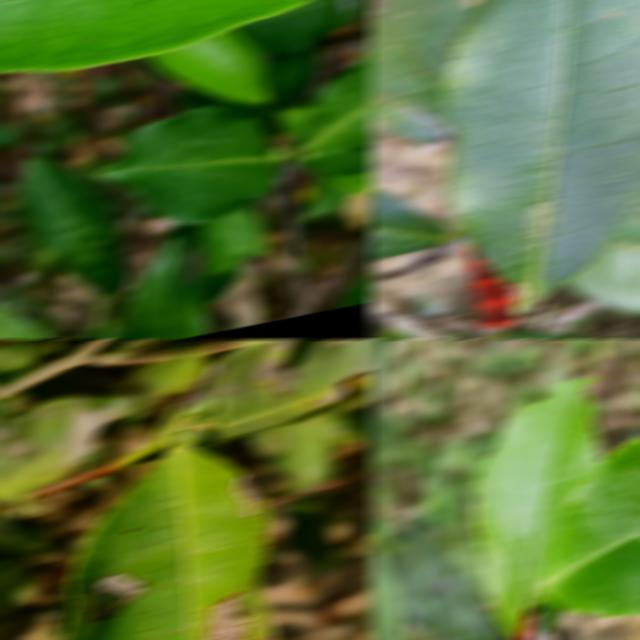Leaf: (441, 0, 640, 306), (61, 443, 278, 640), (473, 380, 604, 633), (0, 0, 312, 72), (96, 106, 280, 222), (539, 435, 640, 615), (193, 340, 374, 440), (368, 0, 474, 144), (18, 158, 131, 292), (0, 396, 137, 499), (116, 240, 211, 338), (147, 31, 271, 104), (299, 44, 374, 158), (245, 413, 335, 490), (368, 189, 457, 258), (198, 205, 268, 273), (284, 501, 336, 569), (432, 584, 494, 640), (368, 552, 406, 640), (0, 304, 53, 338), (368, 340, 389, 416), (336, 271, 374, 307), (0, 565, 25, 616)
